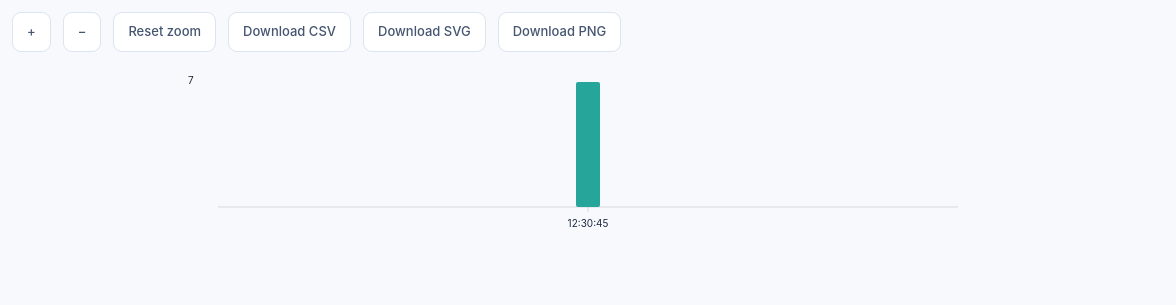
Scenario: Histogram › reports failed export without breaking the chart
The image size is (1176, 305).
Click the button "Download SVG": (424, 32) [363,12,486,52]
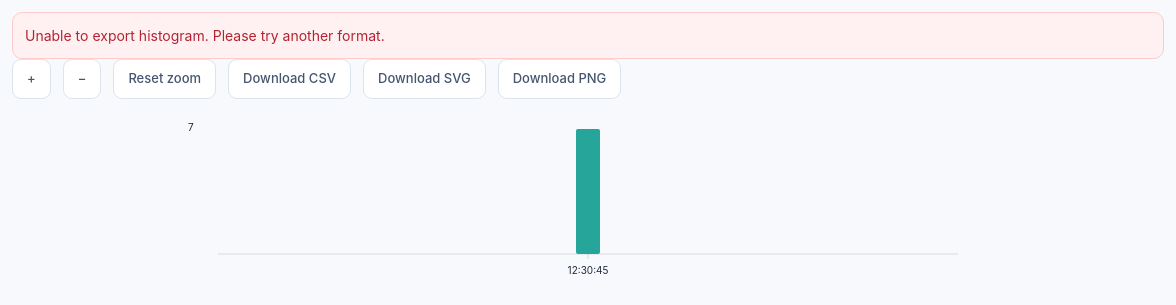
Expected: the picture is shown, [12,118,1164,288]
Now the message shows "Unable to export histogram", box [25,27,385,44]
